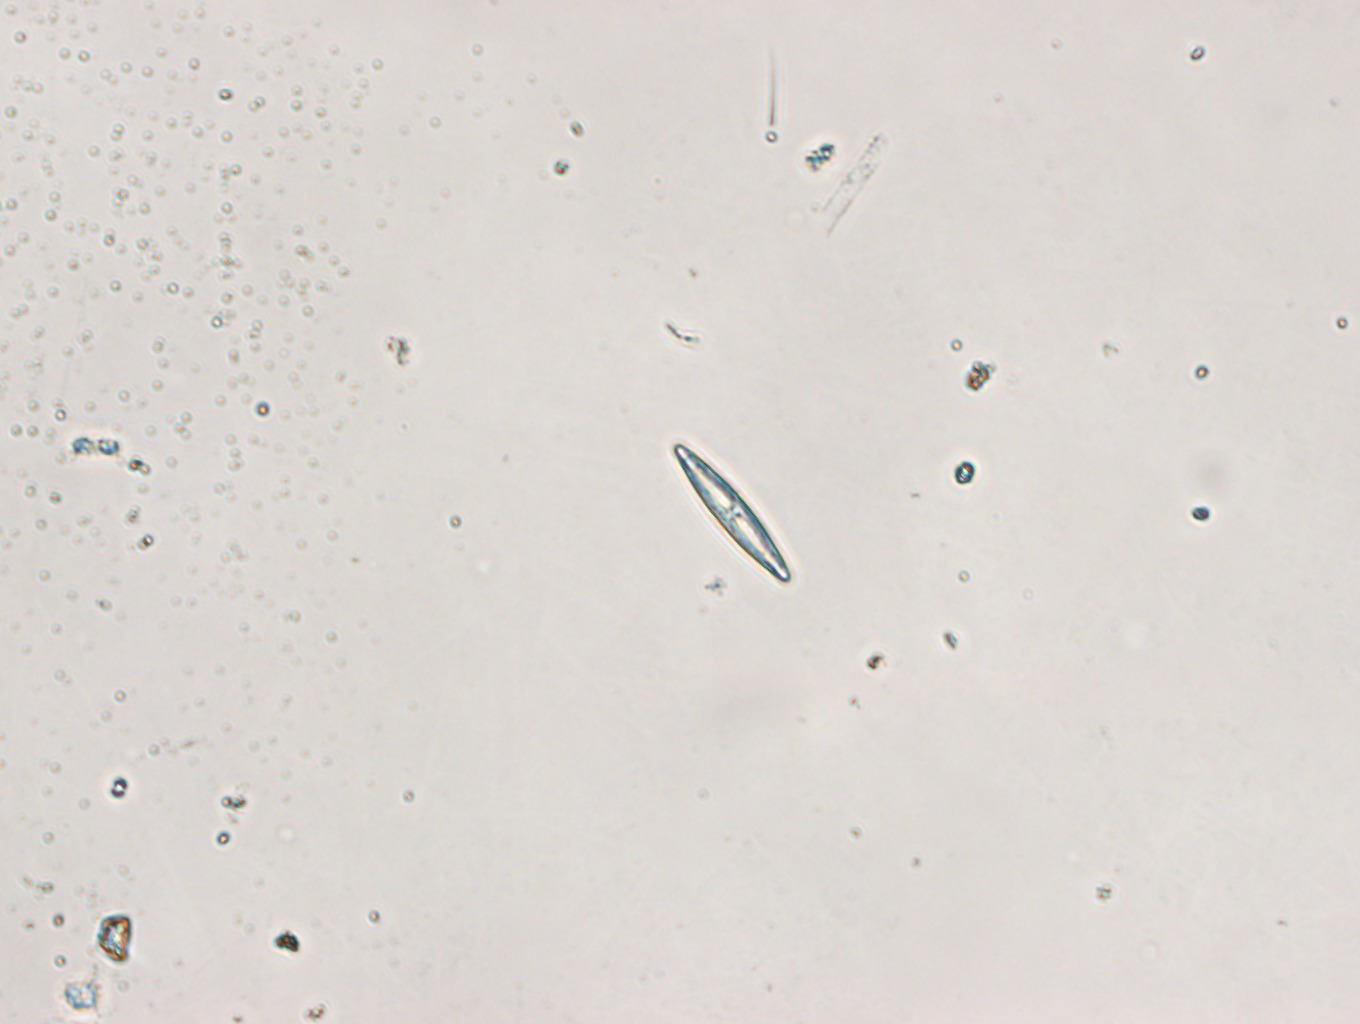navicula: (668, 441, 793, 585)
